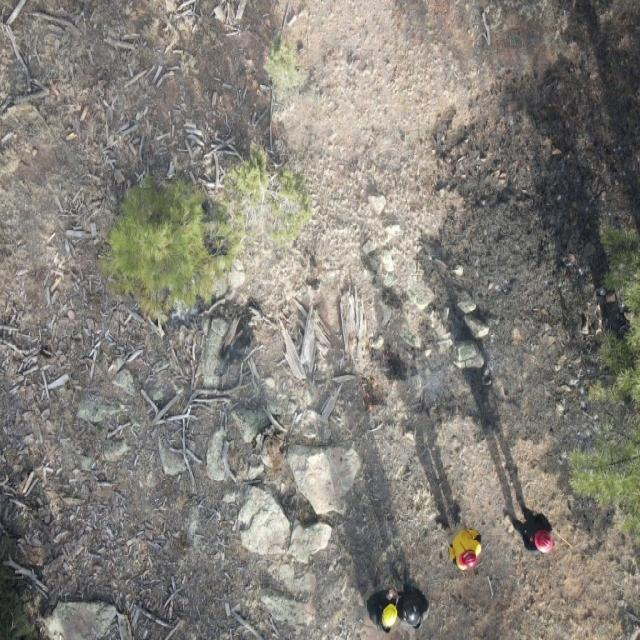fire: (358, 371, 382, 421), (379, 346, 397, 366)
smoke: (414, 351, 458, 407)
